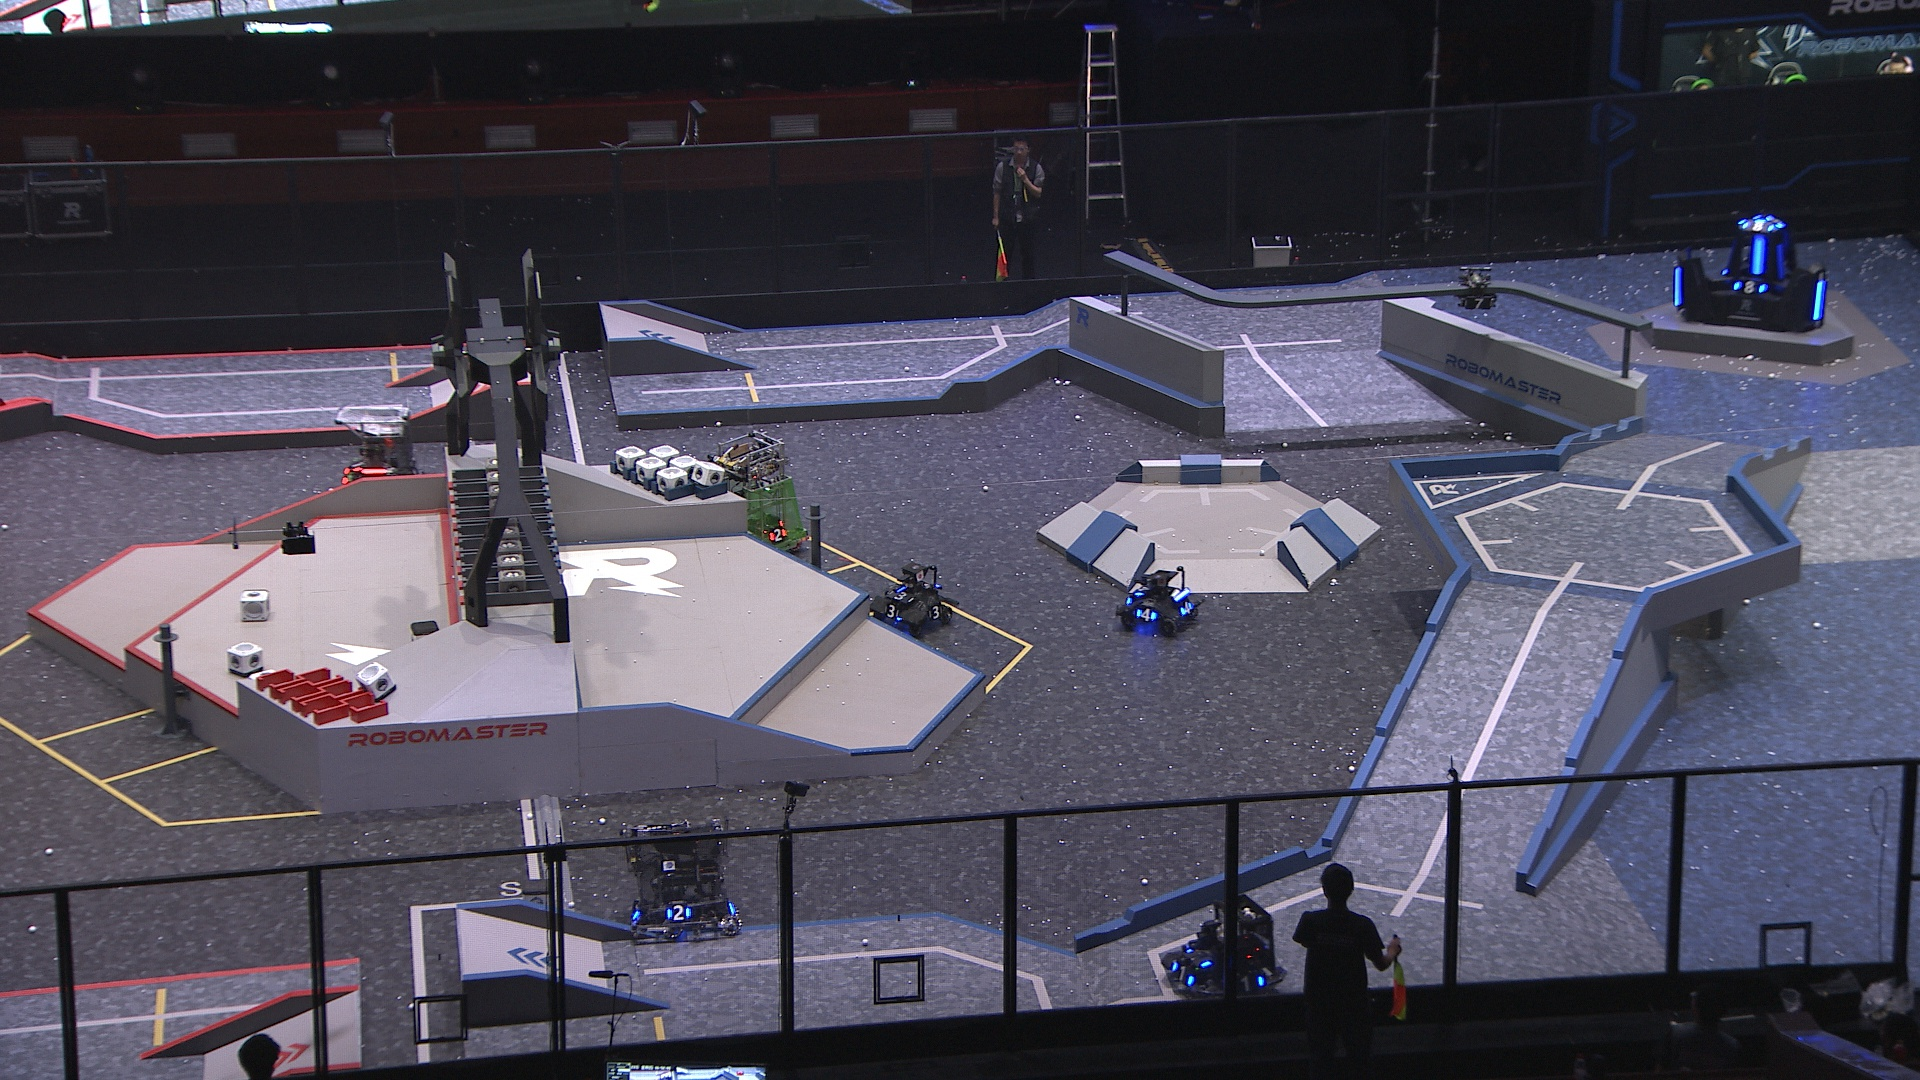armor: (1167, 957, 1196, 988), (1809, 277, 1826, 322), (1233, 973, 1265, 997), (1731, 278, 1768, 295), (1671, 264, 1684, 309), (665, 903, 694, 922), (1741, 220, 1779, 233), (1751, 237, 1764, 276), (1461, 297, 1495, 311), (885, 588, 916, 603), (1776, 244, 1788, 278), (766, 526, 789, 543), (1134, 608, 1158, 622), (926, 603, 944, 621), (882, 603, 902, 618), (349, 458, 367, 475), (1178, 600, 1193, 617), (1131, 584, 1150, 597)
base: (1667, 214, 1828, 332)
car: (618, 812, 741, 943), (699, 427, 808, 560), (1162, 893, 1287, 1001), (334, 400, 430, 501), (869, 559, 955, 637), (1114, 568, 1204, 637)
watcher: (1455, 264, 1501, 313)
